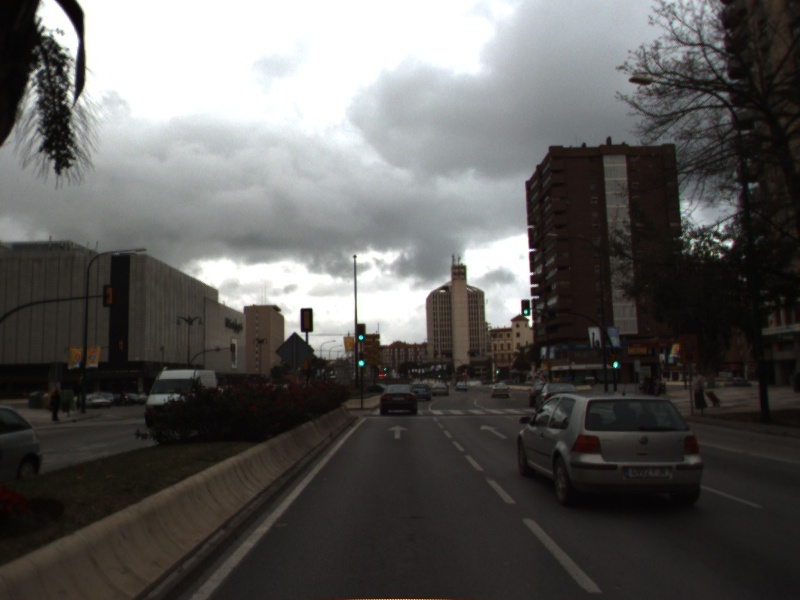STRAIGHT: (478, 422, 511, 441), (385, 423, 410, 441)
